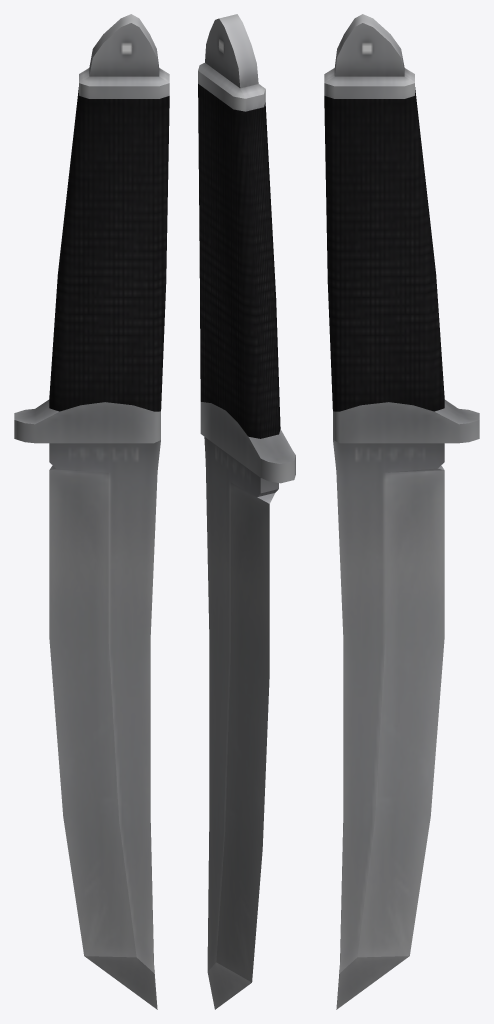
The model's file is TantoKnife.fbx.
3 renders of one model, left to right at view 1: azimuth 90°, elevation 25°; view 2: azimuth 210°, elevation 25°; view 3: azimuth 270°, elevation 25°, orthographic.
Parts seen in each view (by area): view 1: TantoKnife; view 2: TantoKnife; view 3: TantoKnife.
Part boxes in pixels (x1,y1,x2,y2): TantoKnife: (14, 14, 169, 1009); TantoKnife: (198, 14, 295, 1009); TantoKnife: (324, 14, 479, 1009).
Bounding box in the file's own units: 0.00945 × 0.2817 × 0.04.
